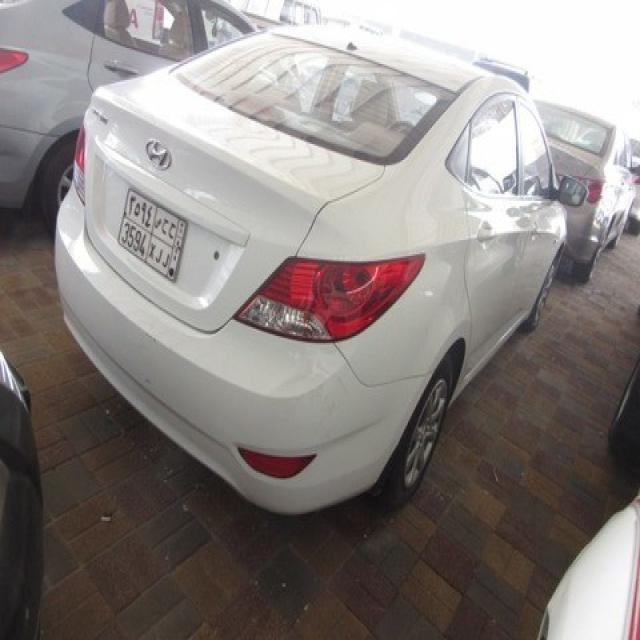license_plate: (118, 185, 190, 286)
